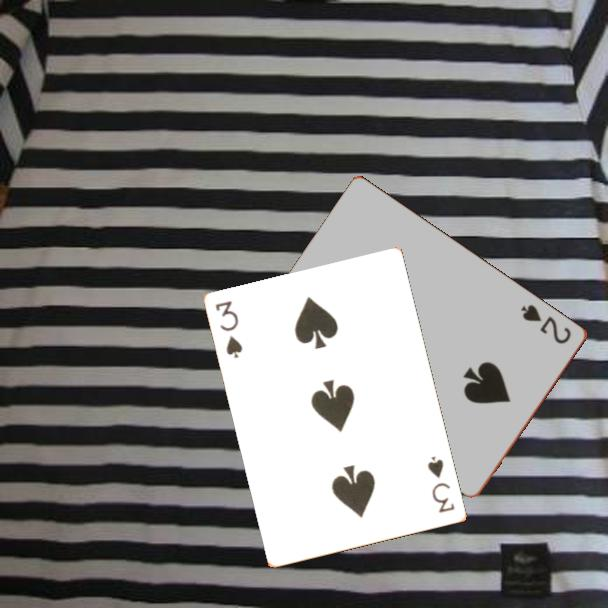s02: (518, 301, 575, 347)
s03: (212, 297, 246, 361), (424, 453, 458, 516)
